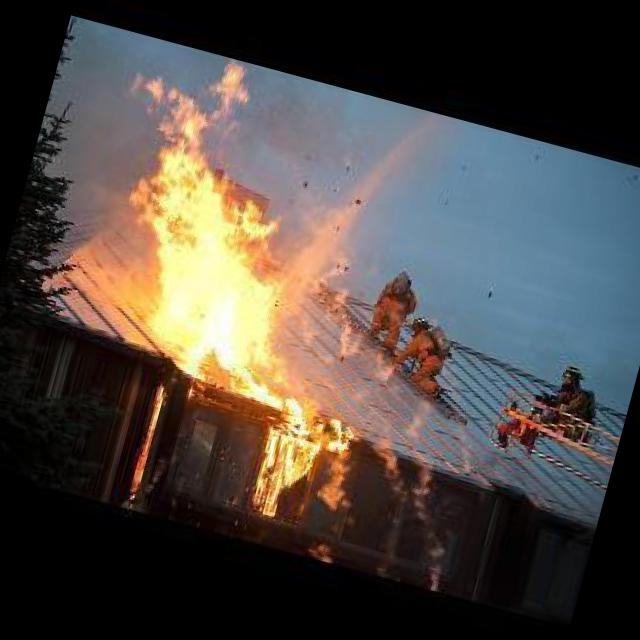Fire: (58, 32, 357, 399), (274, 200, 394, 365), (240, 388, 370, 538), (390, 461, 471, 590), (114, 377, 170, 505), (356, 410, 427, 508), (396, 388, 439, 453), (446, 423, 487, 478), (362, 344, 401, 390)
